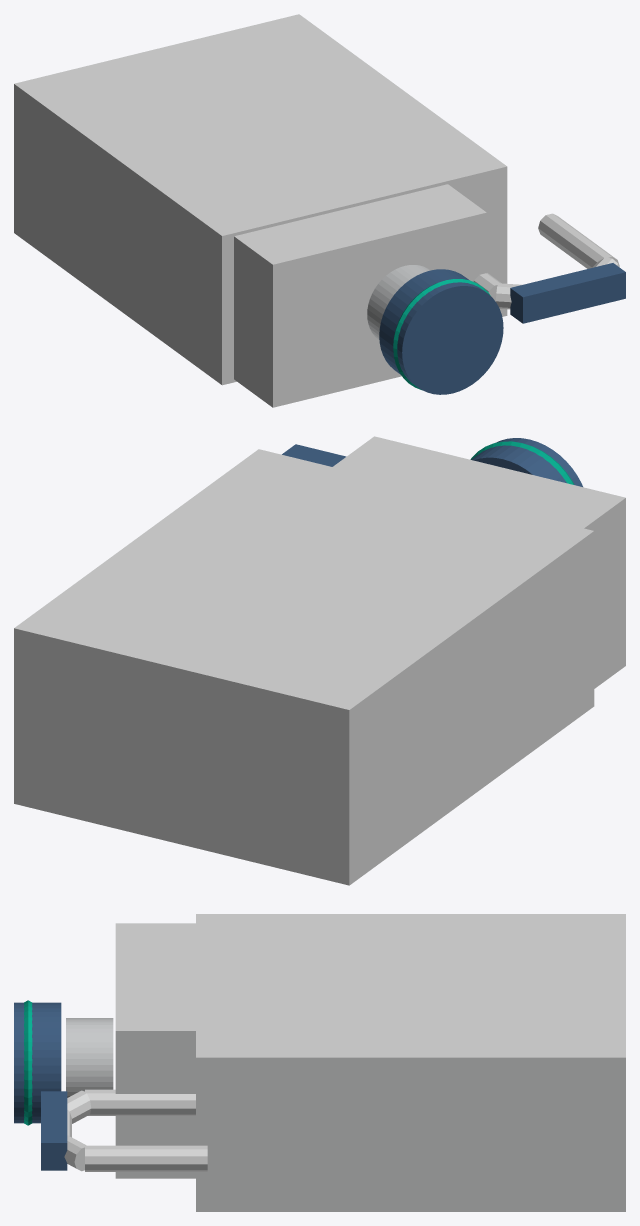
File: bidon-20l.glb
3 renders of one model, top to bottom at view 1: azimuth 30°, elevation 25°; view 2: azimuth 150°, elevation 25°; view 3: azimuth 270°, elevation 25°, orthographic. The views are drawn at different scales.
Parts seen in each view (by area): view 1: body, shoulder, cap, handle-grip, carry-grip-4, spout, cap-rim; view 2: body, shoulder, cap, handle-grip; view 3: body, shoulder, cap, spout, carry-grip-4, carry-grip-0, handle-grip, cap-rim, carry-grip-1, carry-grip-3.
Part boxes in pixels (x1,y1,x2,y2): body: [14, 14, 507, 385]; shoulder: [234, 184, 486, 407]; cap: [379, 269, 503, 394]; handle-grip: [510, 263, 625, 323]; carry-grip-4: [538, 213, 619, 268]; spout: [367, 265, 430, 340]; cap-rim: [393, 279, 490, 390]; body: [14, 449, 594, 885]; shoulder: [333, 436, 625, 688]; cap: [471, 438, 582, 486]; handle-grip: [282, 444, 346, 466]; body: [196, 914, 625, 1211]; shoulder: [115, 923, 195, 1178]; cap: [14, 1002, 61, 1123]; spout: [66, 1018, 113, 1097]; carry-grip-4: [85, 1145, 207, 1171]; carry-grip-0: [85, 1089, 195, 1115]; handle-grip: [41, 1091, 67, 1170]; cap-rim: [24, 1000, 32, 1125]; carry-grip-1: [67, 1090, 91, 1123]; carry-grip-3: [64, 1135, 87, 1171].
Size of the model in its own units: 0.868 by 0.367 by 1.3.
